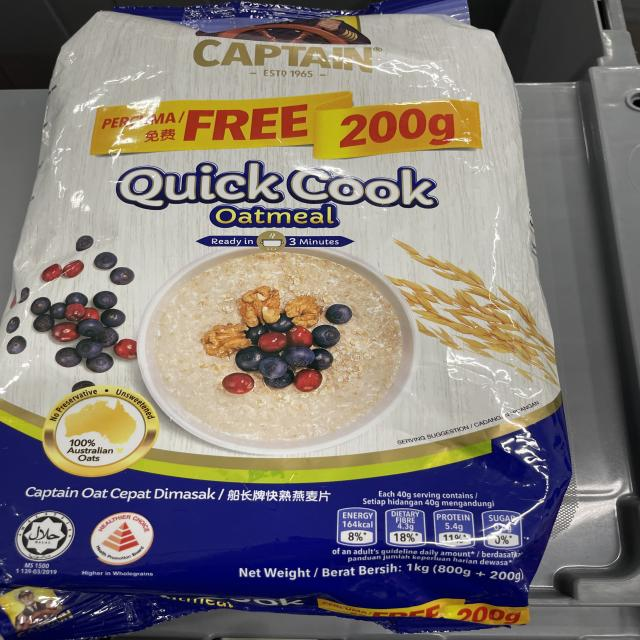object_name: (36, 16, 512, 621)
